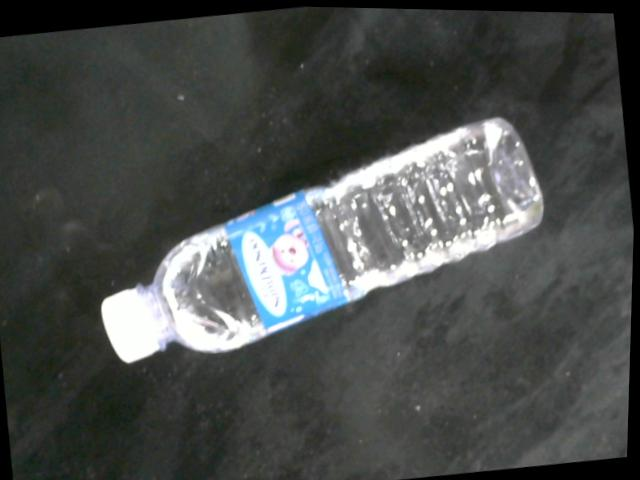bottle: (102, 112, 546, 365)
